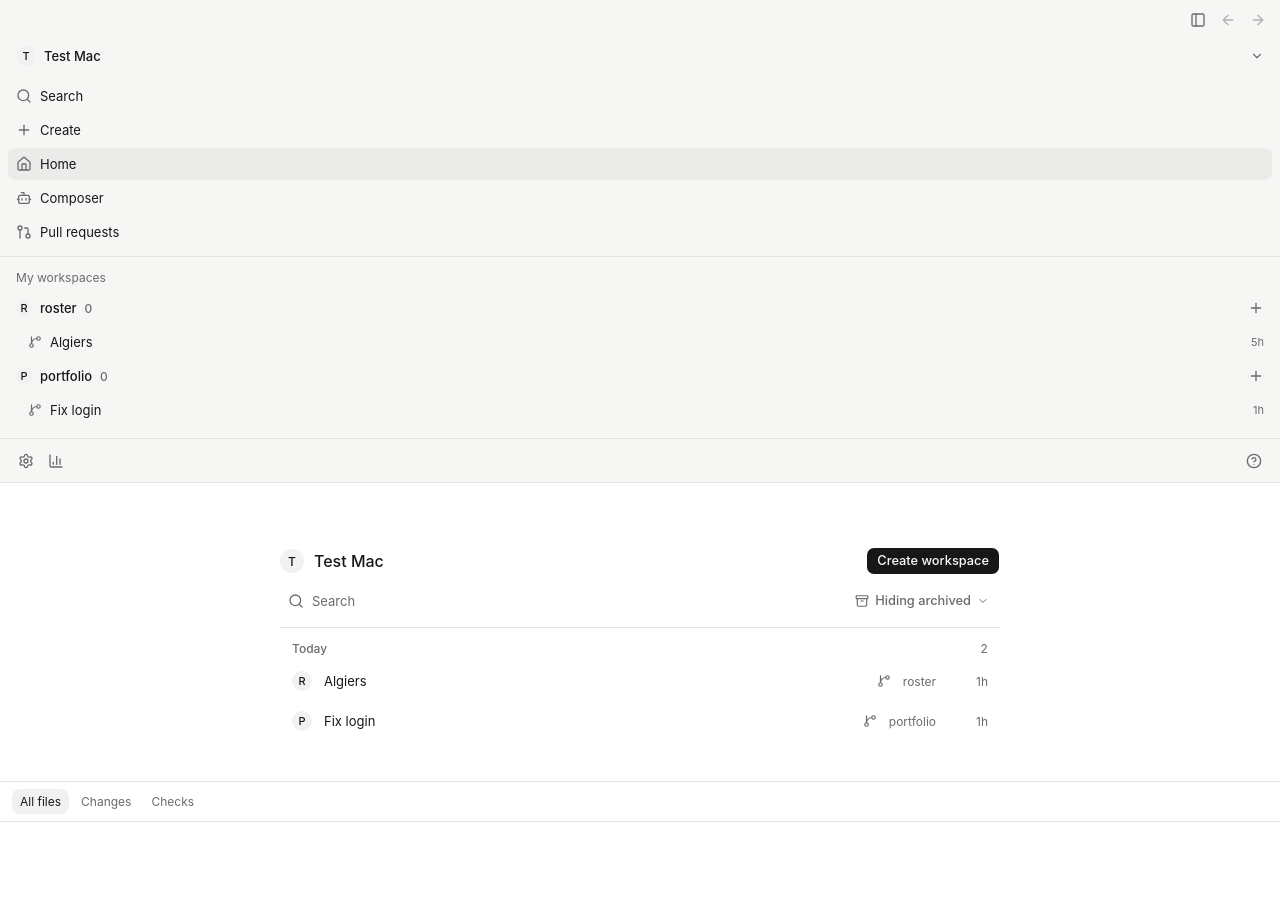
it: Command palette › filters by tab
Check: the element that starts with "Test Mac" is shown, box 280,547 -> 1000,741
Type keys "{Meta>}k{/Meta}"
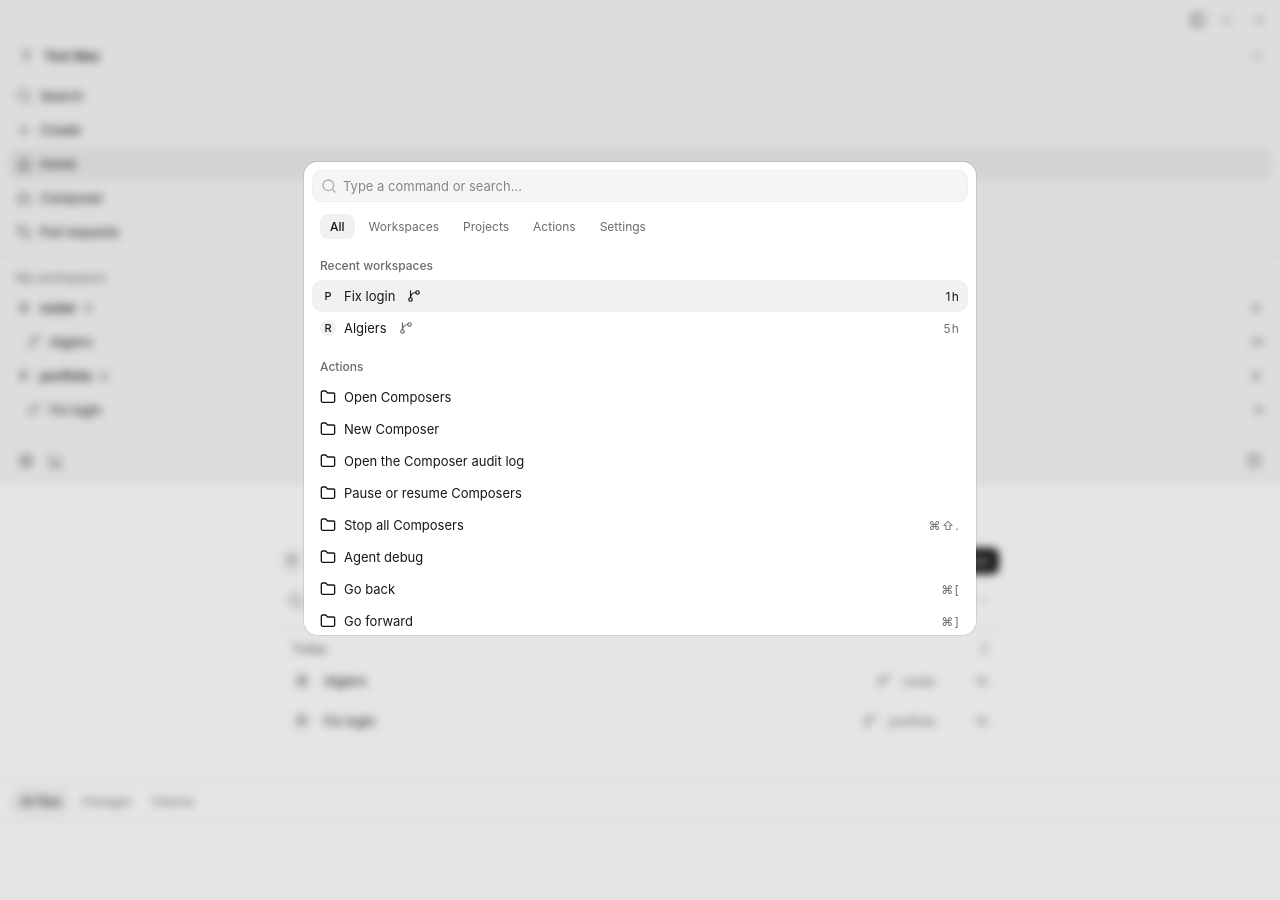
Click the tab "Settings": x=623, y=226 590,214 -> 656,239
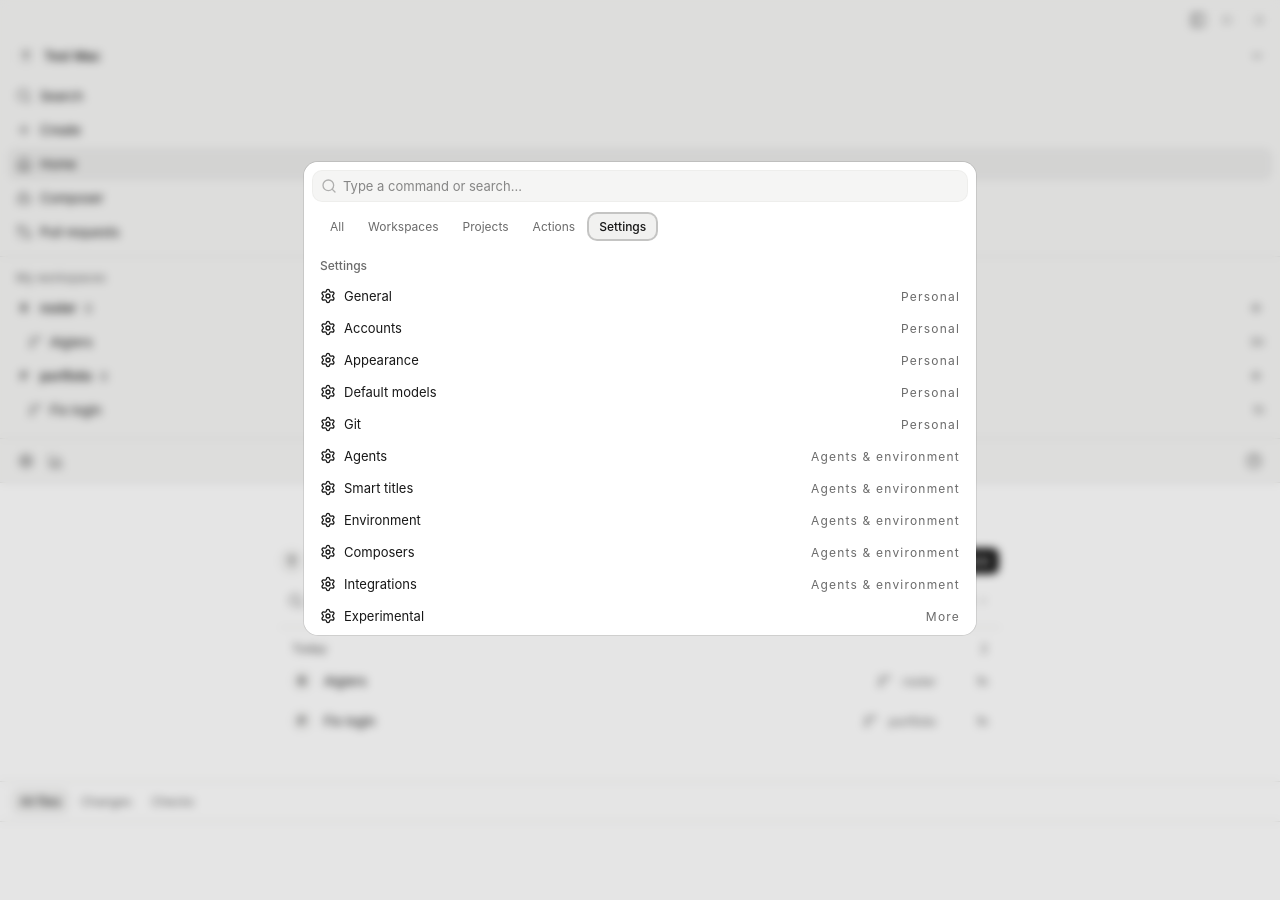
Check: the tab "Settings" is shown, box 589,214 -> 656,239
Click the option "Appearance Personal": x=381, y=360 320,352 -> 960,368
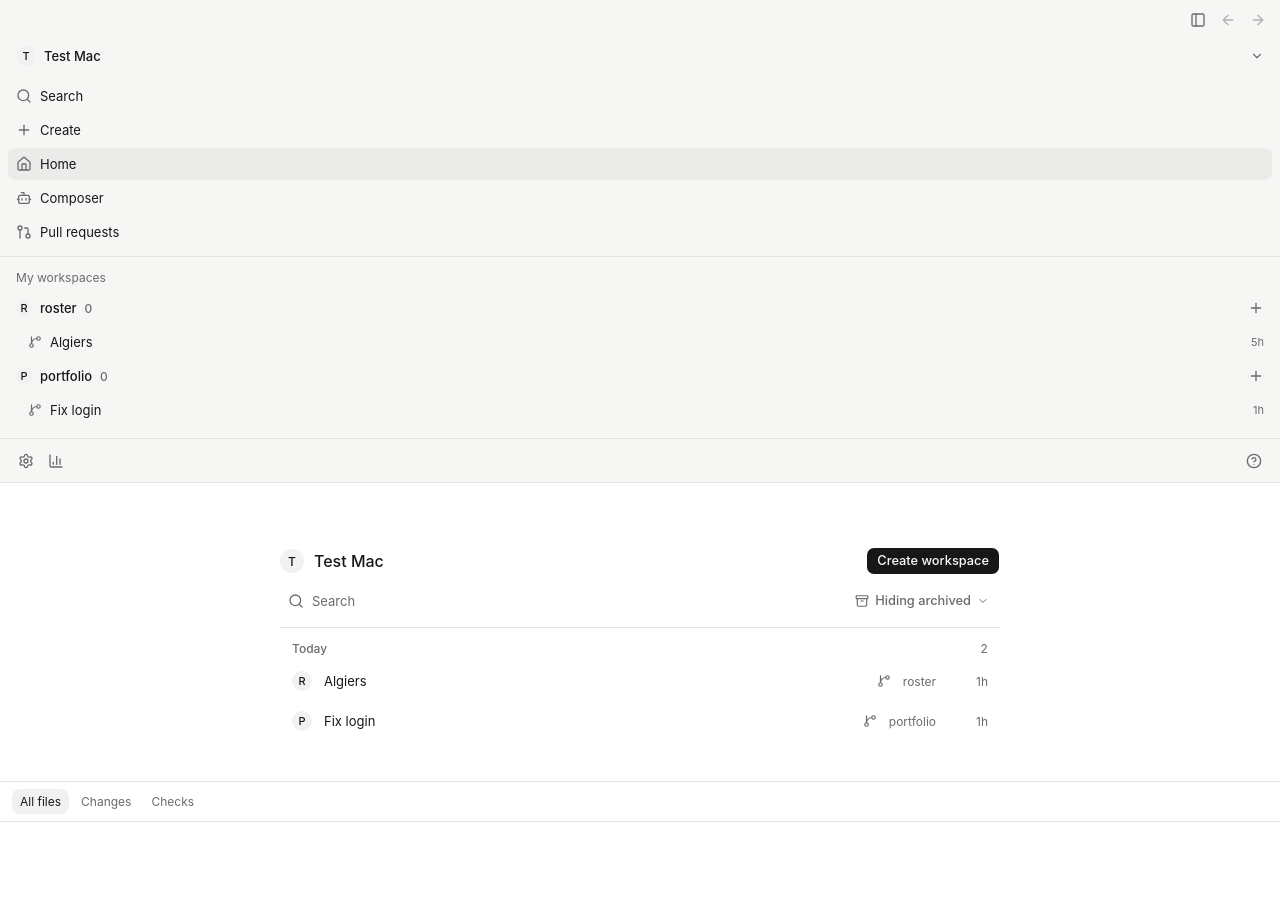
Type keys "{Meta>}k{/Meta}"
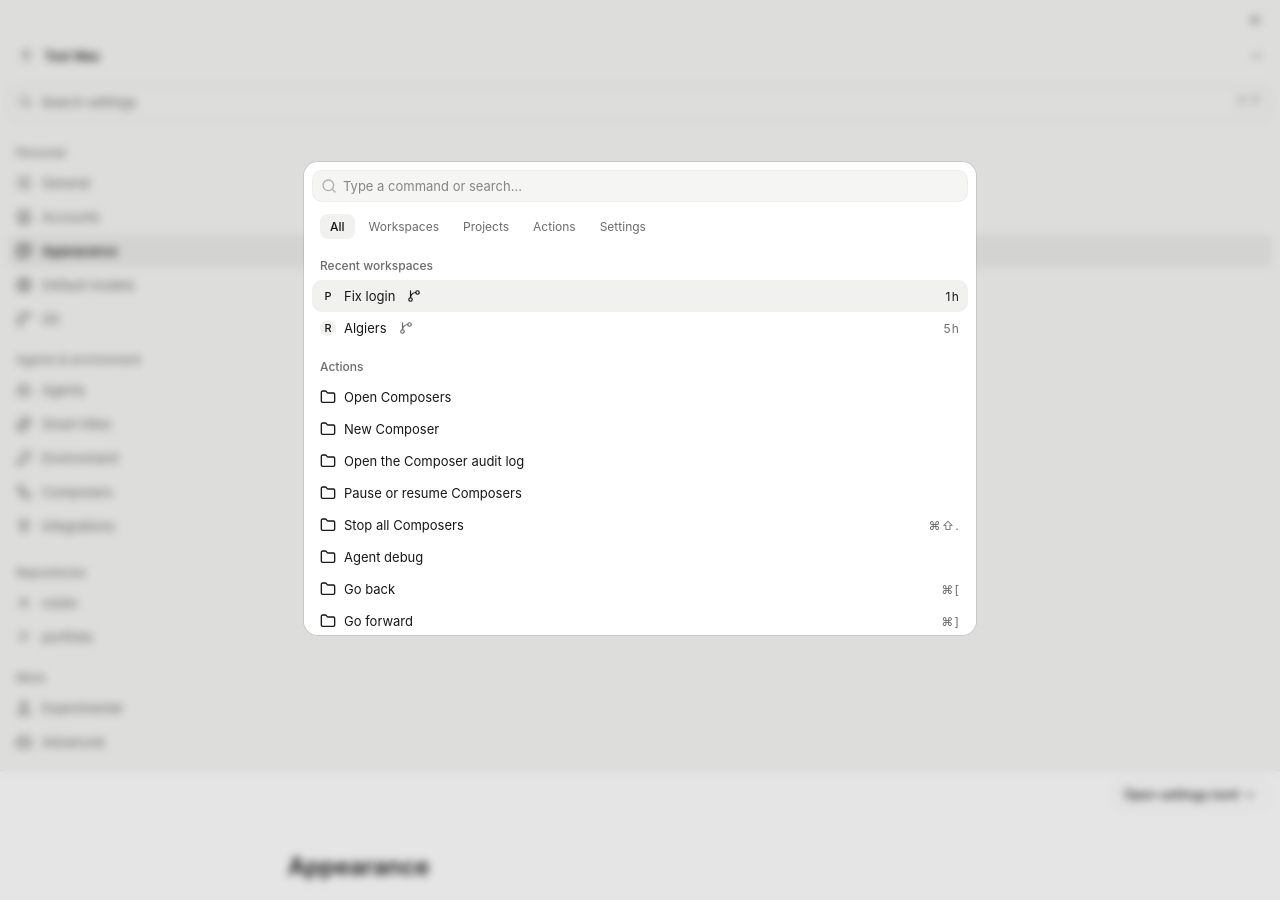
Check: the dropdown with placeholder "Type a command or search..." is shown, box 337,176 -> 967,196
Click the tab "Workspaces": x=404, y=226 359,214 -> 449,239
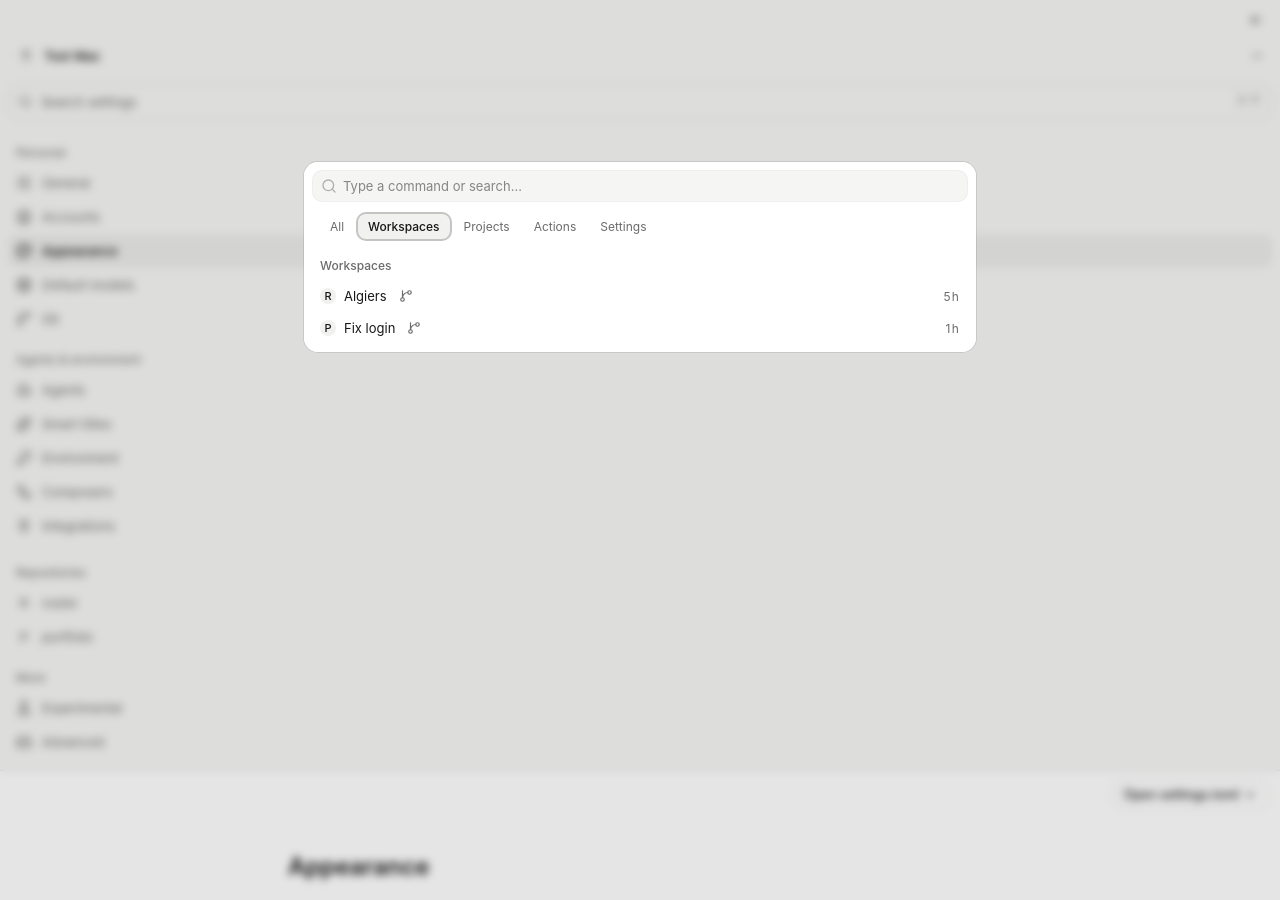
Check: the number of options is 2, box 320,288 -> 960,304; 320,320 -> 960,336
